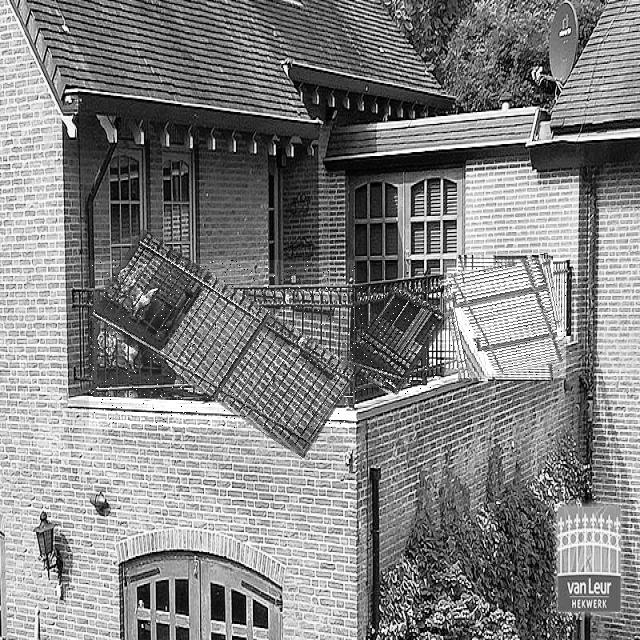fences: (89, 260, 357, 428), (444, 258, 566, 378), (352, 285, 439, 394)
